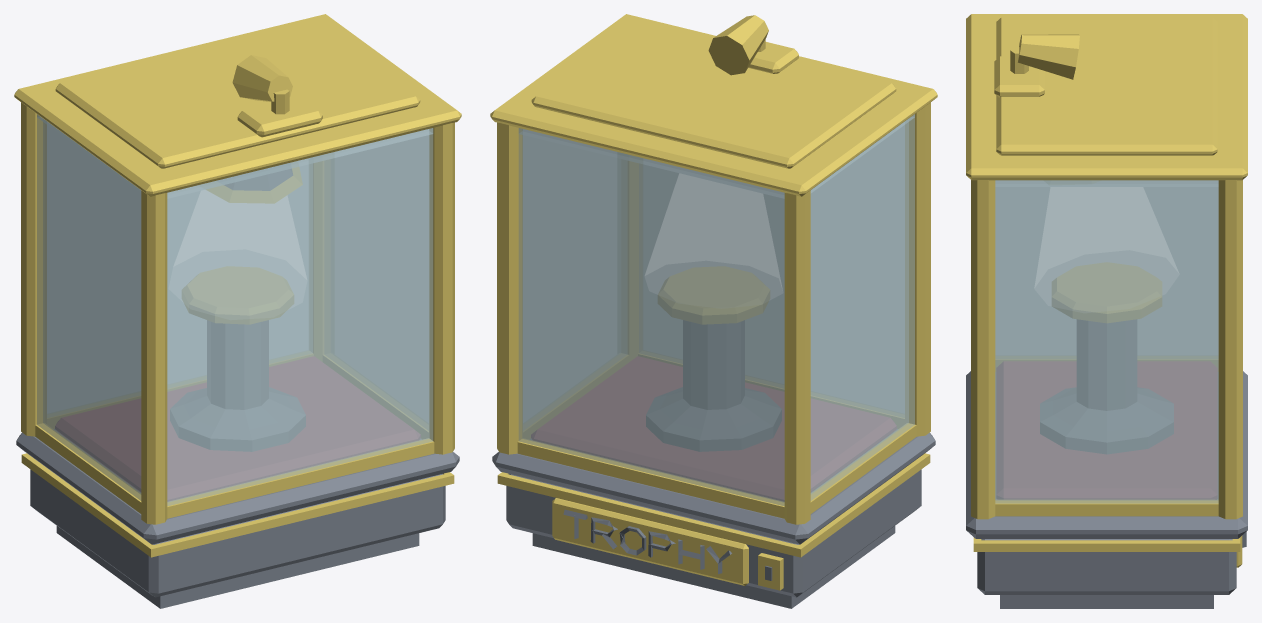
The model's file is GlassCase.fbx.
3 renders of one model, left to right at view 1: azimuth 30°, elevation 25°; view 2: azimuth 150°, elevation 25°; view 3: azimuth 270°, elevation 25°, orthographic. The views are drawn at different scales.
Parts seen in each view (by area): view 1: GlassCase.GlassPanes, GlassCase.BrassFrame, GlassCase.Plinth, GlassCase.VelvetPad, GlassCase.Pedestal, GlassCase.PlinthTrim, GlassCase.LampHood; view 2: GlassCase.GlassPanes, GlassCase.BrassFrame, GlassCase.Plinth, GlassCase.VelvetPad, GlassCase.PlinthTrim, GlassCase.Pedestal, GlassCase.Engraving; view 3: GlassCase.BrassFrame, GlassCase.GlassPanes, GlassCase.Plinth, GlassCase.VelvetPad, GlassCase.Pedestal, GlassCase.PlinthTrim.
Boxes of the visible parts, x1,y1,x2,y2 form: GlassCase.GlassPanes: (37,114,433,505); GlassCase.BrassFrame: (14,14,461,524); GlassCase.Plinth: (16,429,459,608); GlassCase.VelvetPad: (55,356,420,501); GlassCase.Pedestal: (170,320,305,451); GlassCase.PlinthTrim: (21,453,454,557); GlassCase.LampHood: (225,169,292,190); GlassCase.GlassPanes: (518,114,914,505); GlassCase.BrassFrame: (490,14,937,524); GlassCase.Plinth: (492,429,935,608); GlassCase.VelvetPad: (531,356,896,501); GlassCase.PlinthTrim: (497,453,930,590); GlassCase.Pedestal: (646,320,781,451); GlassCase.Engraving: (563,509,772,580); GlassCase.BrassFrame: (966,14,1247,519); GlassCase.GlassPanes: (995,180,1218,503); GlassCase.Plinth: (966,371,1247,608); GlassCase.VelvetPad: (996,361,1217,499); GlassCase.Pedestal: (1040,319,1173,453); GlassCase.PlinthTrim: (973,535,1242,567).
Size of the model in its own units: 4 by 5.98 by 3.
